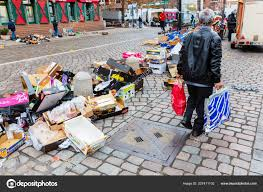garbage: (2, 74, 117, 152), (105, 51, 147, 83), (149, 36, 177, 68)
